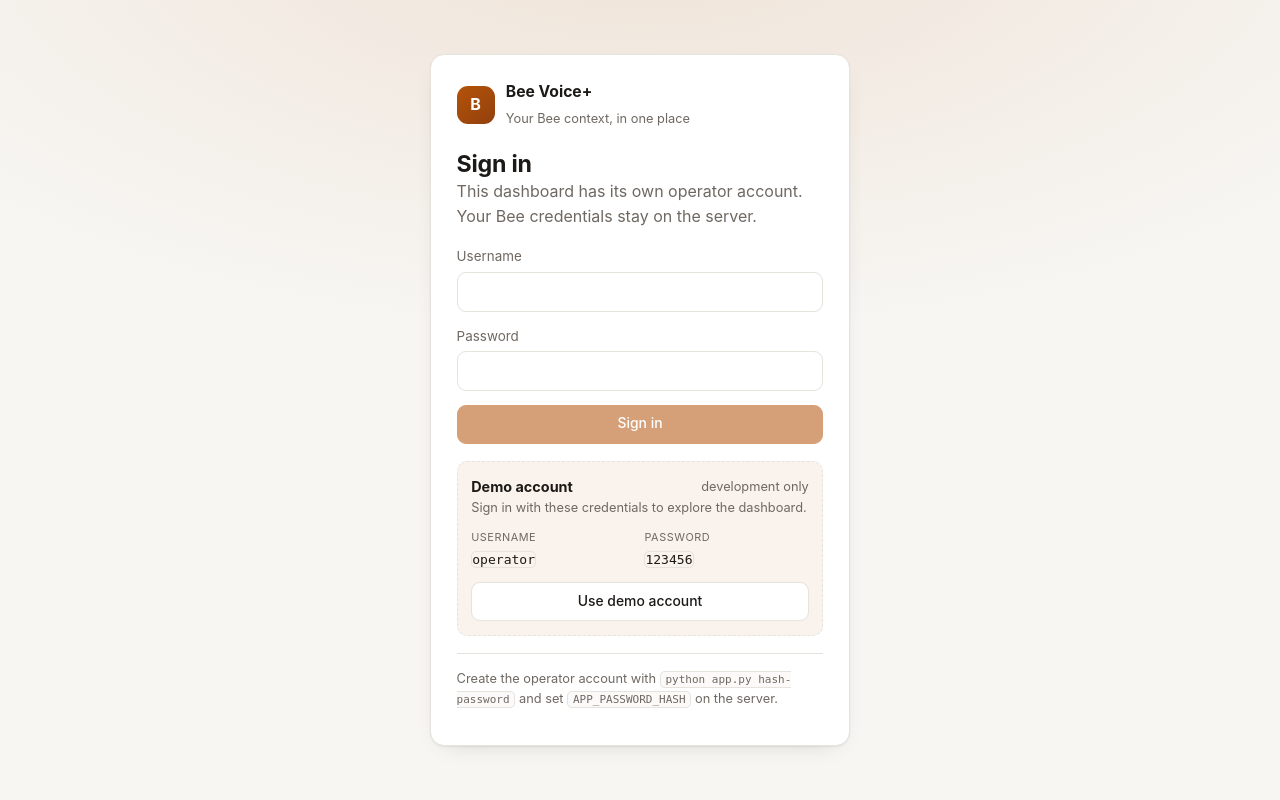
Test: Login page › shows the development demo account and fills the form
The width and height of the screenshot is (1280, 800).
Check: the text "Demo account" is shown, box [471, 476, 573, 498]
Check: the text "123456" is shown, box [644, 551, 694, 568]
Click the button "Use demo account". click: [640, 602]
box: [471, 582, 809, 621]
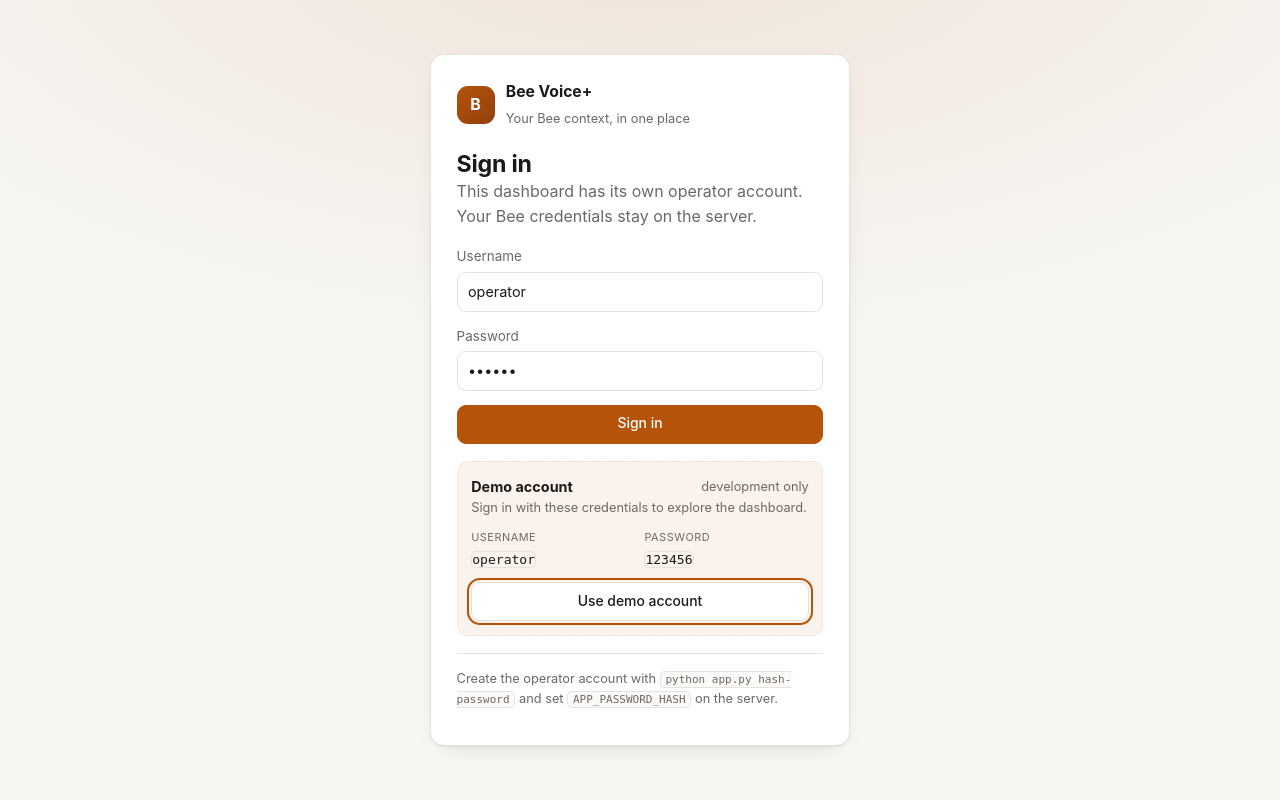
Check: the field labelled "Username" holds "operator", box [457, 272, 823, 312]
Check: the password field labelled "Password" holds "123456", box [457, 351, 823, 391]
Check: the button "Sign in" is enabled, box [457, 405, 823, 444]
